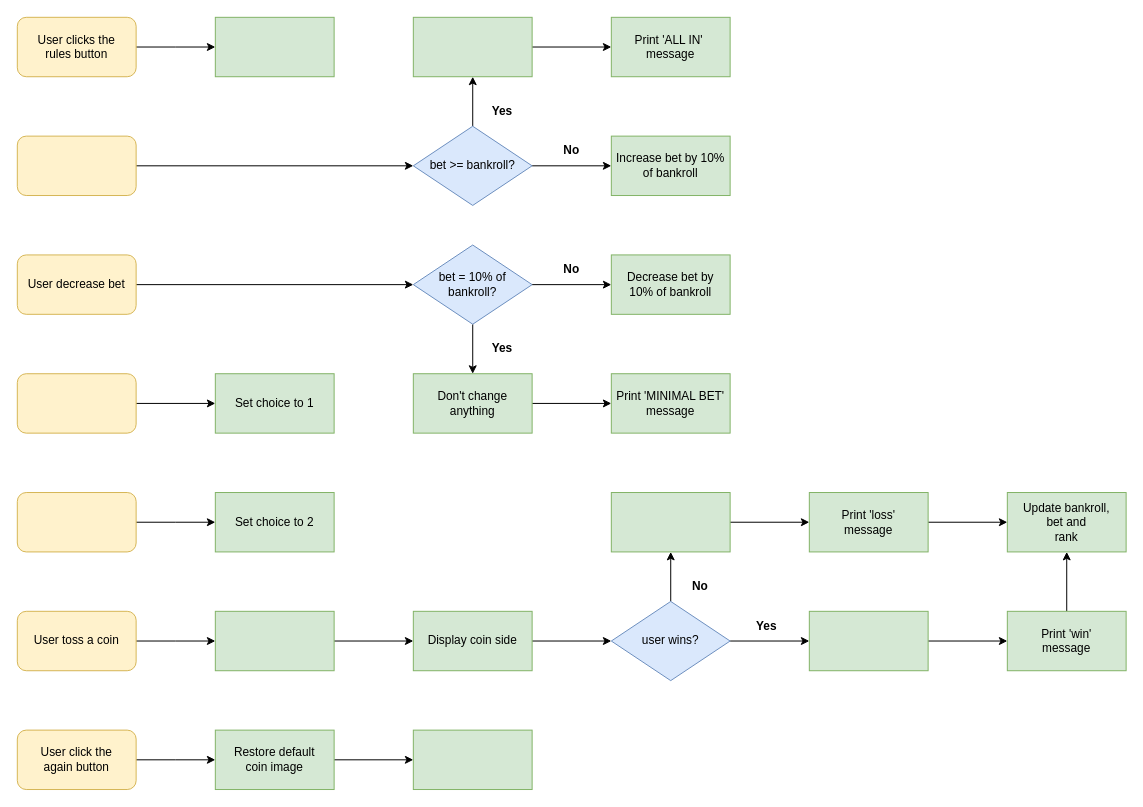
Image size: 1143x807. Some labels were removed from this diagram. The centre of each missing label's shape, as x and y in pixels:
"Add bet to the bankroll" belongs at point (868, 640).
"Generate random between 0 and 1" belongs at point (274, 640).
"Increase 'turns' by 1" belongs at point (472, 759).
"Make modal window & overlay visible" belongs at point (274, 46).
"Set bet = 100% of bankroll" belongs at point (472, 46).
"Subtract bet from the bankroll" belongs at point (670, 522).
"User bet on avers" belongs at point (76, 522).
"User bet on revers" belongs at point (76, 403).
"User increase bet" belongs at point (76, 165).
